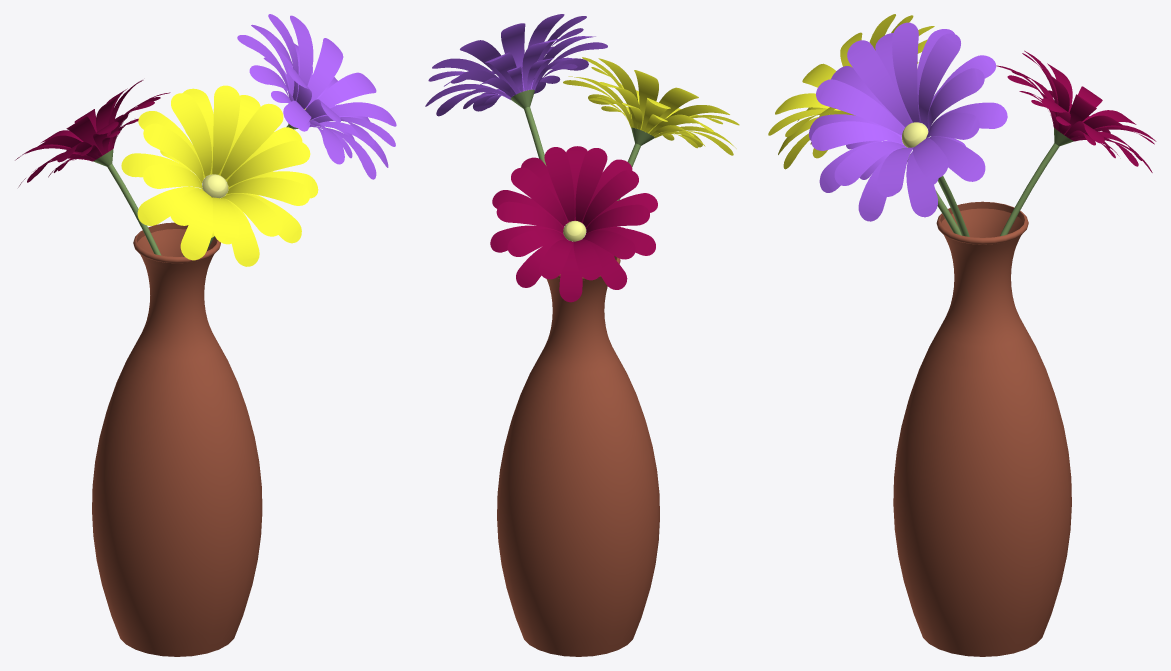
The model's file is Flower+Vase.obj.
3 renders of one model, left to right at view 1: azimuth 30°, elevation 25°; view 2: azimuth 150°, elevation 25°; view 3: azimuth 270°, elevation 25°, orthographic. The views are drawn at different scales.
Parts seen in each view (by area): view 1: Mesh94 Group98 Flower_Vase1 Model, Mesh77 Group81 Group66 Group1 Flower_Vase1 Model, Mesh67 Group71 Group66 Group1 Flower_Vase1 Model, Mesh78 Group82 Group66 Group1 Flower_Vase1 Model, Mesh81 Group85 Group66 Group1 Flower_Vase1 Model, Mesh92 Group96 Group66 Group1 Flower_Vase1 Model, Mesh72 Group76 Group66 Group1 Flower_Vase1 Model, Mesh93 Group97 Group66 Group1 Flower_Vase1 Model, Mesh80 Group84 Group66 Group1 Flower_Vase1 Model, Mesh16 Group18 Group2 Group1 Flower_Vase1 Model, Mesh87 Group91 Group66 Group1 Flower_Vase1 Model, Mesh30 Group32 Group2 Group1 Flower_Vase1 Model (+17 smaller); view 2: Mesh94 Group98 Flower_Vase1 Model, Mesh50 Group53 Group34 Group1 Flower_Vase1 Model, Mesh36 Group39 Group34 Group1 Flower_Vase1 Model, Mesh41 Group44 Group34 Group1 Flower_Vase1 Model, Mesh46 Group49 Group34 Group1 Flower_Vase1 Model, Mesh56 Group59 Group34 Group1 Flower_Vase1 Model, Mesh47 Group50 Group34 Group1 Flower_Vase1 Model, Mesh51 Group54 Group34 Group1 Flower_Vase1 Model, Mesh61 Group64 Group34 Group1 Flower_Vase1 Model, Mesh35 Group38 Group34 Group1 Flower_Vase1 Model, Mesh53 Group56 Group34 Group1 Flower_Vase1 Model, Mesh37 Group40 Group34 Group1 Flower_Vase1 Model (+19 smaller); view 3: Mesh94 Group98 Flower_Vase1 Model, Mesh10 Group12 Group2 Group1 Flower_Vase1 Model, Mesh19 Group21 Group2 Group1 Flower_Vase1 Model, Mesh25 Group27 Group2 Group1 Flower_Vase1 Model, Mesh20 Group22 Group2 Group1 Flower_Vase1 Model, Mesh5 Group7 Group2 Group1 Flower_Vase1 Model, Mesh15 Group17 Group2 Group1 Flower_Vase1 Model, Mesh22 Group24 Group2 Group1 Flower_Vase1 Model, Mesh6 Group8 Group2 Group1 Flower_Vase1 Model, Mesh14 Group16 Group2 Group1 Flower_Vase1 Model, Mesh16 Group18 Group2 Group1 Flower_Vase1 Model, Mesh31 Group33 Group2 Group1 Flower_Vase1 Model (+12 smaller).
Part boxes in pixels (left/top/right/bottom): Mesh94 Group98 Flower_Vase1 Model: left=92, top=222, right=262, bottom=656; Mesh77 Group81 Group66 Group1 Flower_Vase1 Model: left=221, top=103, right=283, bottom=178; Mesh67 Group71 Group66 Group1 Flower_Vase1 Model: left=212, top=85, right=240, bottom=174; Mesh78 Group82 Group66 Group1 Flower_Vase1 Model: left=227, top=140, right=310, bottom=186; Mesh81 Group85 Group66 Group1 Flower_Vase1 Model: left=171, top=93, right=211, bottom=176; Mesh92 Group96 Group66 Group1 Flower_Vase1 Model: left=227, top=177, right=309, bottom=205; Mesh72 Group76 Group66 Group1 Flower_Vase1 Model: left=143, top=123, right=203, bottom=183; Mesh93 Group97 Group66 Group1 Flower_Vase1 Model: left=221, top=193, right=282, bottom=236; Mesh80 Group84 Group66 Group1 Flower_Vase1 Model: left=180, top=198, right=212, bottom=260; Mesh16 Group18 Group2 Group1 Flower_Vase1 Model: left=306, top=38, right=343, bottom=108; Mesh87 Group91 Group66 Group1 Flower_Vase1 Model: left=143, top=164, right=202, bottom=189; Mesh30 Group32 Group2 Group1 Flower_Vase1 Model: left=318, top=72, right=376, bottom=107; Mesh94 Group98 Flower_Vase1 Model: left=497, top=256, right=659, bottom=656; Mesh50 Group53 Group34 Group1 Flower_Vase1 Model: left=544, top=147, right=574, bottom=221; Mesh36 Group39 Group34 Group1 Flower_Vase1 Model: left=575, top=148, right=607, bottom=221; Mesh41 Group44 Group34 Group1 Flower_Vase1 Model: left=511, top=167, right=567, bottom=226; Mesh46 Group49 Group34 Group1 Flower_Vase1 Model: left=583, top=170, right=638, bottom=226; Mesh56 Group59 Group34 Group1 Flower_Vase1 Model: left=496, top=201, right=563, bottom=233; Mesh47 Group50 Group34 Group1 Flower_Vase1 Model: left=586, top=204, right=649, bottom=233; Mesh51 Group54 Group34 Group1 Flower_Vase1 Model: left=507, top=229, right=565, bottom=256; Mesh61 Group64 Group34 Group1 Flower_Vase1 Model: left=582, top=230, right=635, bottom=259; Mesh35 Group38 Group34 Group1 Flower_Vase1 Model: left=559, top=241, right=582, bottom=302; Mesh53 Group56 Group34 Group1 Flower_Vase1 Model: left=539, top=239, right=573, bottom=279; Mesh37 Group40 Group34 Group1 Flower_Vase1 Model: left=581, top=239, right=627, bottom=289; Mesh94 Group98 Flower_Vase1 Model: left=893, top=201, right=1071, bottom=656; Mesh10 Group12 Group2 Group1 Flower_Vase1 Model: left=847, top=40, right=910, bottom=127; Mesh19 Group21 Group2 Group1 Flower_Vase1 Model: left=892, top=22, right=919, bottom=122; Mesh25 Group27 Group2 Group1 Flower_Vase1 Model: left=816, top=79, right=903, bottom=134; Mesh20 Group22 Group2 Group1 Flower_Vase1 Model: left=811, top=121, right=902, bottom=150; Mesh5 Group7 Group2 Group1 Flower_Vase1 Model: left=918, top=33, right=960, bottom=125; Mesh15 Group17 Group2 Group1 Flower_Vase1 Model: left=927, top=68, right=984, bottom=131; Mesh22 Group24 Group2 Group1 Flower_Vase1 Model: left=834, top=141, right=907, bottom=185; Mesh6 Group8 Group2 Group1 Flower_Vase1 Model: left=906, top=151, right=937, bottom=217; Mesh14 Group16 Group2 Group1 Flower_Vase1 Model: left=930, top=137, right=985, bottom=181; Mesh16 Group18 Group2 Group1 Flower_Vase1 Model: left=926, top=112, right=979, bottom=139; Mesh31 Group33 Group2 Group1 Flower_Vase1 Model: left=877, top=147, right=913, bottom=196.
Size of the model in its own units: 6.2 by 12.4 by 6.86.
